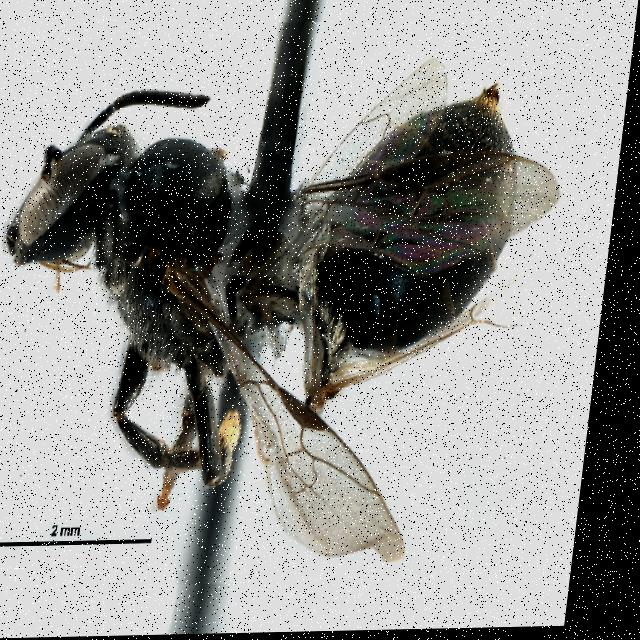Braunsapis: (0, 19, 585, 590)
